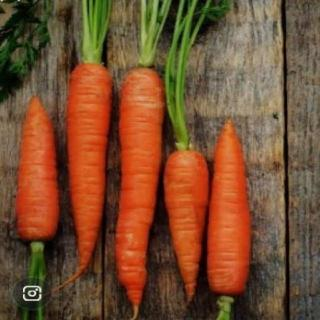carrot: (116, 62, 170, 314), (63, 62, 113, 290), (205, 112, 252, 302), (163, 145, 214, 307), (8, 92, 56, 241)
